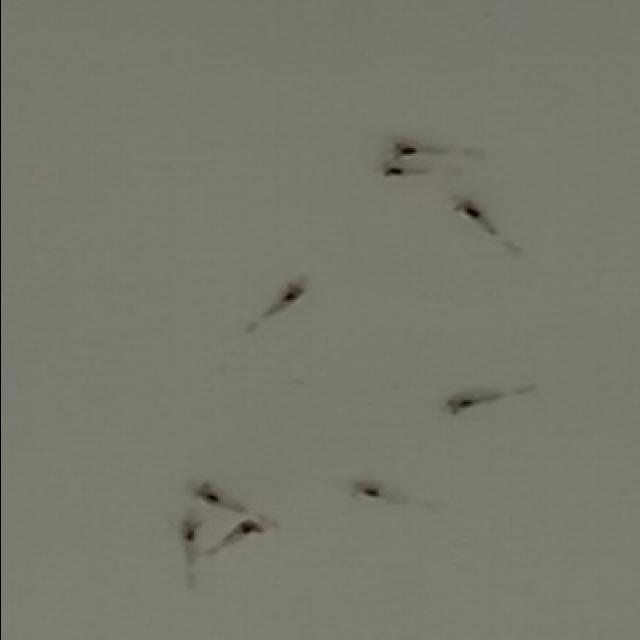shrimp-seed: (262, 276, 318, 320), (448, 192, 502, 236), (172, 513, 218, 548), (183, 480, 231, 510), (442, 389, 486, 420), (233, 514, 277, 542), (378, 162, 432, 184), (347, 478, 387, 506), (386, 140, 434, 160)
